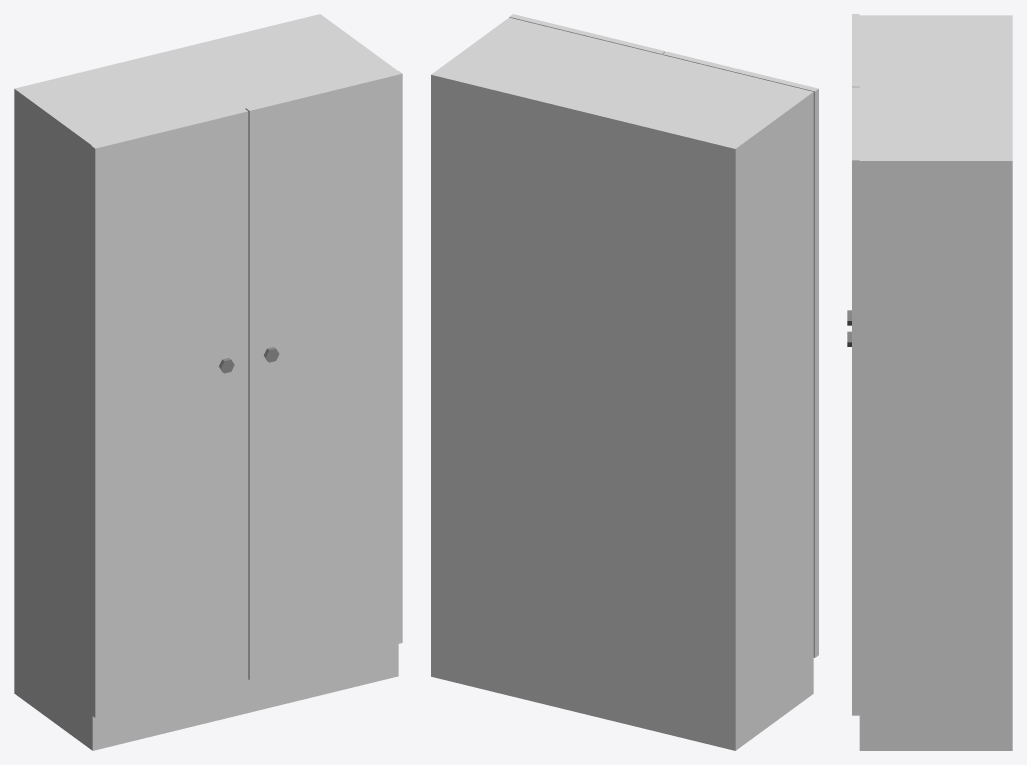
File: LC_3177_iron_locker_LOD1.fbx
3 renders of one model, left to right at view 1: azimuth 30°, elevation 25°; view 2: azimuth 150°, elevation 25°; view 3: azimuth 270°, elevation 25°, orthographic. The views are drawn at different scales.
Parts seen in each view (by area): view 1: LC_3177_il_LOD1; view 2: LC_3177_il_LOD1; view 3: LC_3177_il_LOD1.
Boxes of the visible parts, box(x1,y1,x2,y2) form: LC_3177_il_LOD1: box(14, 14, 402, 750); LC_3177_il_LOD1: box(431, 14, 818, 750); LC_3177_il_LOD1: box(847, 14, 1012, 750).
Bounding box in the file's own units: 90.42 × 170 × 43.19.
Materials: 1 (1 with a texture image).
